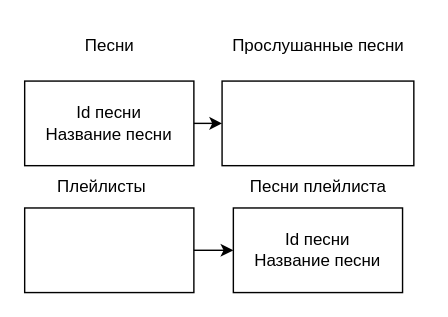
Some shapes in this 448 by 317 pixel diagram are drawn without their labels. Here are the shapes that lost their labels. From the top down, the centre of each, then its label:
At point (317, 123): "Кол-во прослушиваний".
At point (108, 250): "Id плейлиста Название плейлиста".
